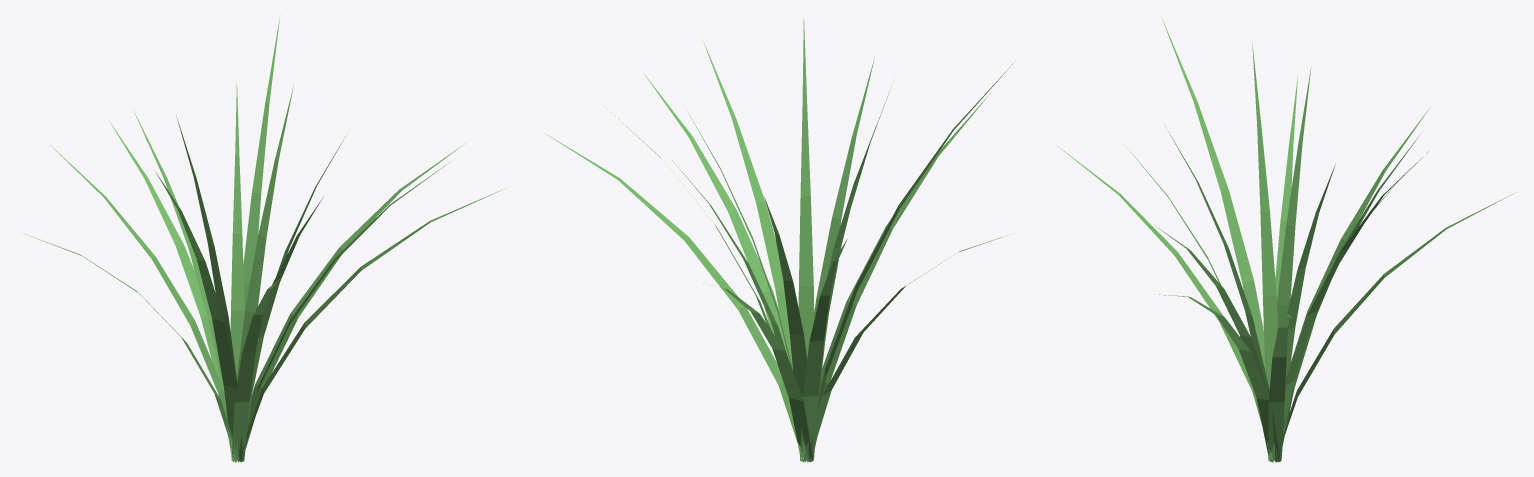
The model's file is rice_tillering_lod0.glb.
The picture shows the model from 3 angles, left to right: view 1: azimuth 30°, elevation 25°; view 2: azimuth 150°, elevation 25°; view 3: azimuth 270°, elevation 25°; orthographic projection. The views are drawn at different scales.
Visible parts, largest first — view 1: rice_tillering_leaves; view 2: rice_tillering_leaves; view 3: rice_tillering_leaves.
Boxes of the visible parts, bbox=[...] form: rice_tillering_leaves: bbox=[25, 15, 508, 462]; rice_tillering_leaves: bbox=[545, 19, 1013, 462]; rice_tillering_leaves: bbox=[1057, 17, 1517, 462].
Size of the model in its own units: 0.5061 by 0.4008 by 0.4426.
